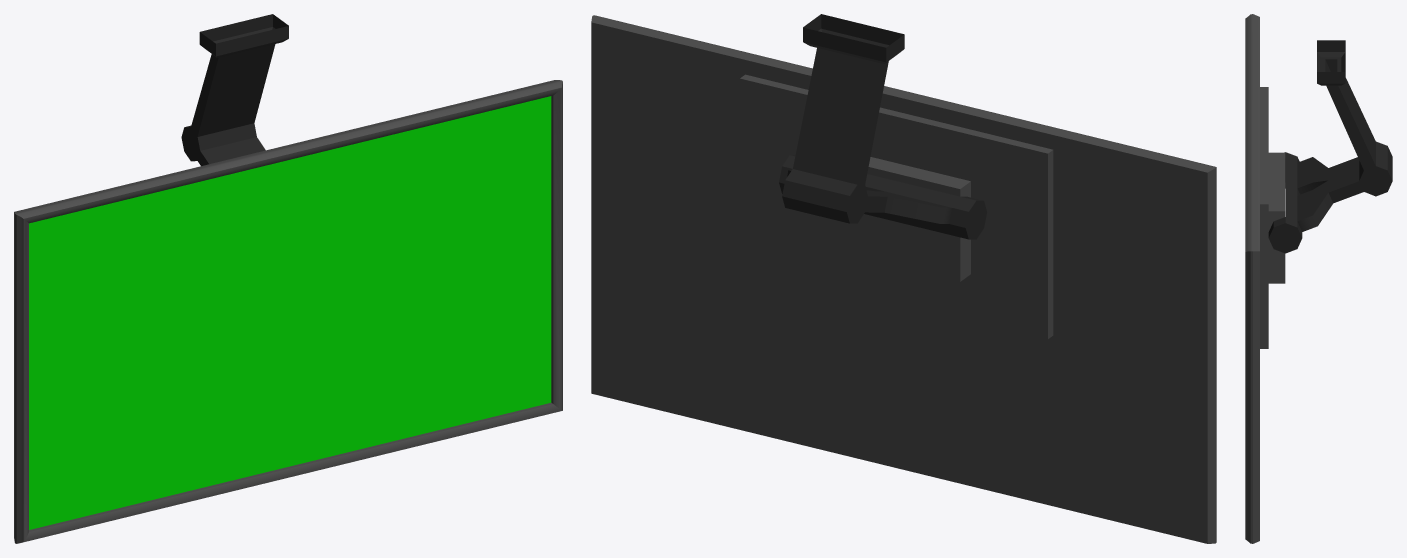
Rendered from prop_tv.fbx.
3 renders of one model, left to right at view 1: azimuth 30°, elevation 25°; view 2: azimuth 150°, elevation 25°; view 3: azimuth 270°, elevation 25°, orthographic. The views are drawn at different scales.
Visible parts, largest first — view 1: polySurface7; view 2: polySurface7; view 3: polySurface7.
Boxes of the visible parts, <box> form: polySurface7: <box>14,14,562,543</box>; polySurface7: <box>591,14,1216,543</box>; polySurface7: <box>1245,14,1392,543</box>.
Size of the model in its own units: 4.17 by 3.03 by 1.1.
